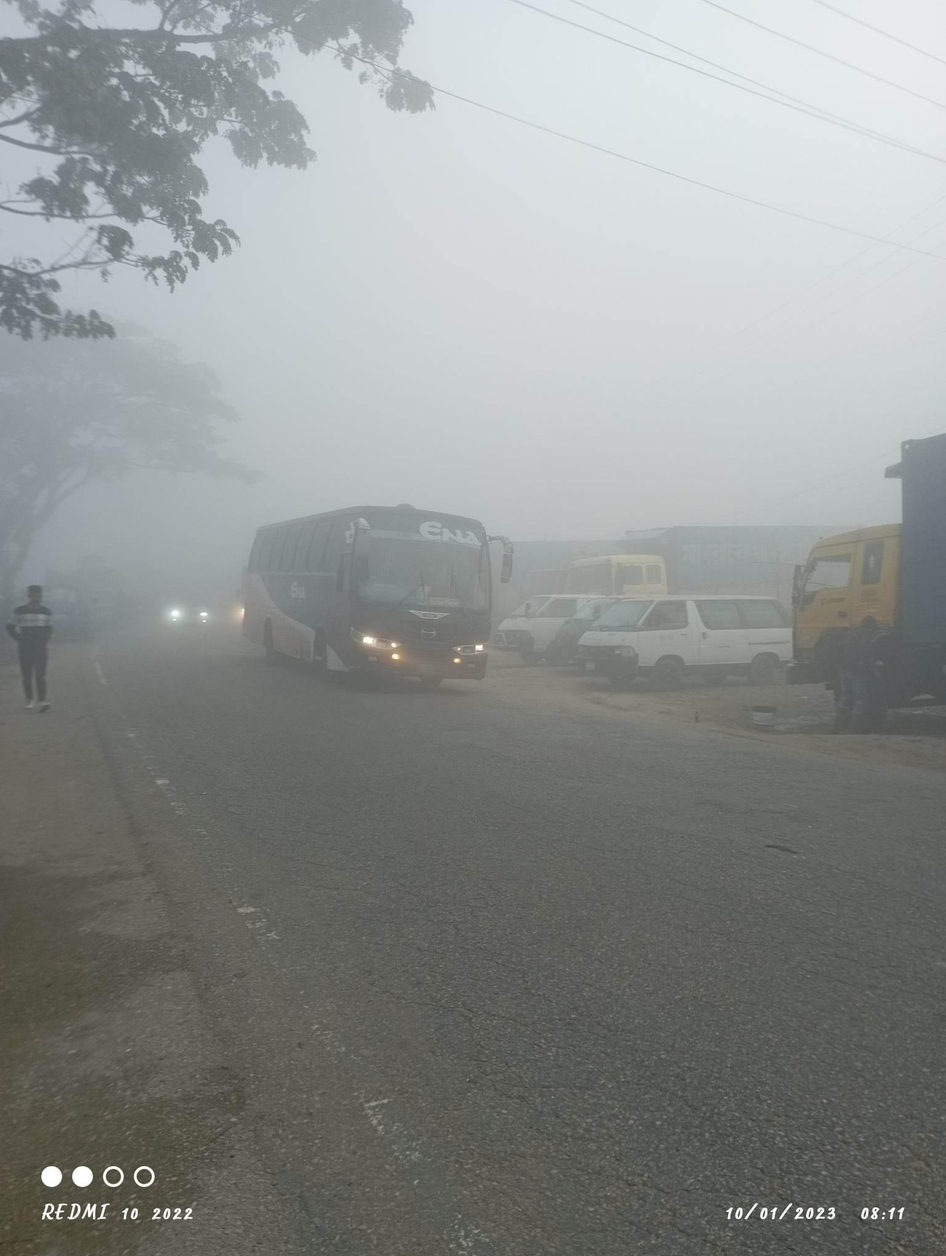Bus: (230, 497, 524, 731)
Car: (577, 589, 788, 691), (495, 579, 639, 662)
Truck: (775, 421, 946, 747)
